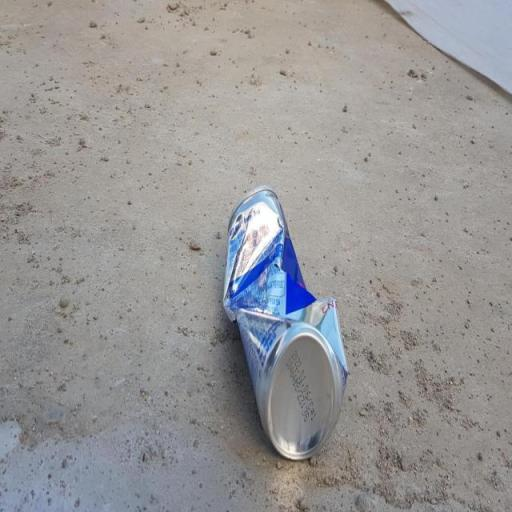metal: (216, 158, 354, 502)
